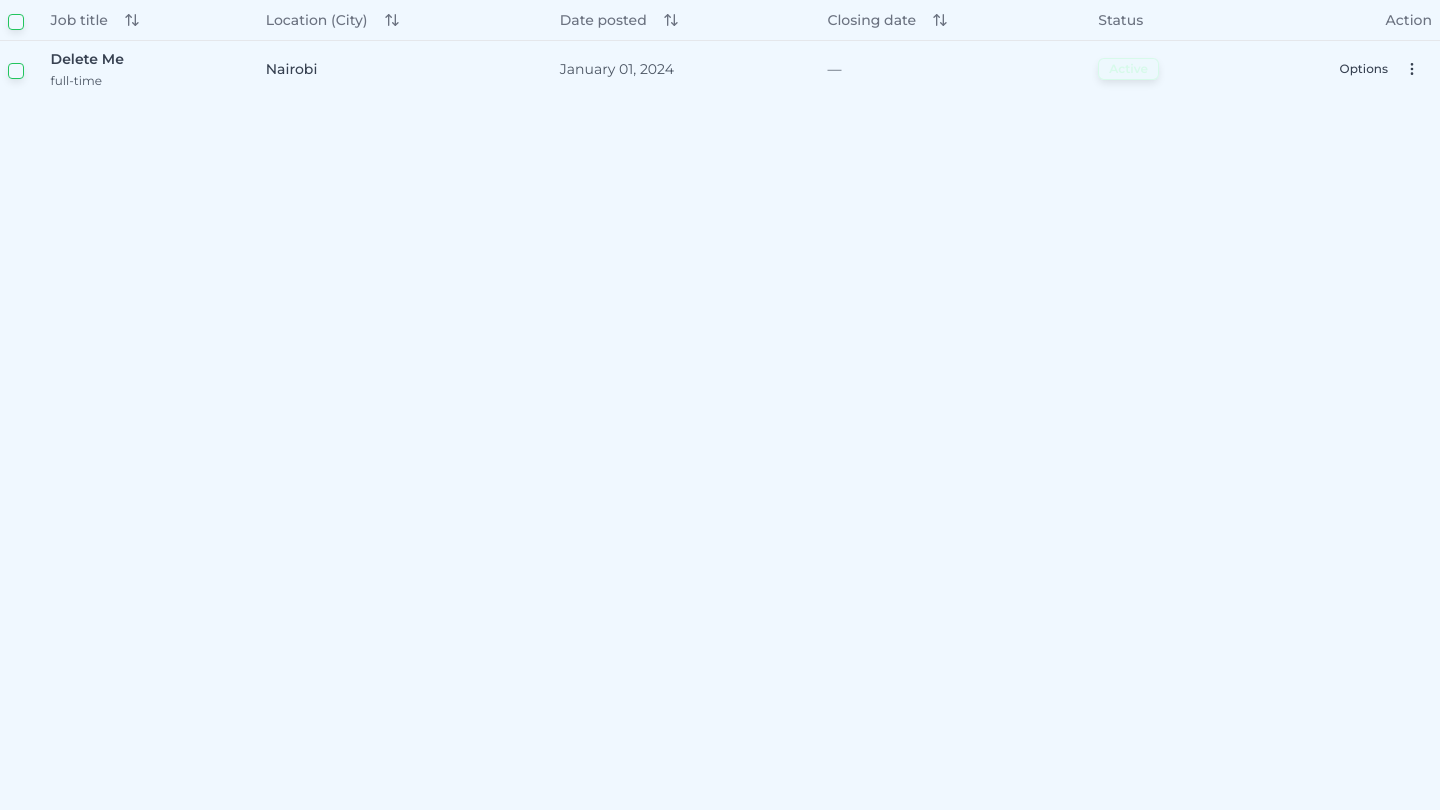
Test: JobListingTable delete action › removes the listing when delete is confirmed
Click the button "Options" at (1380, 68), box [1328, 52, 1432, 84]
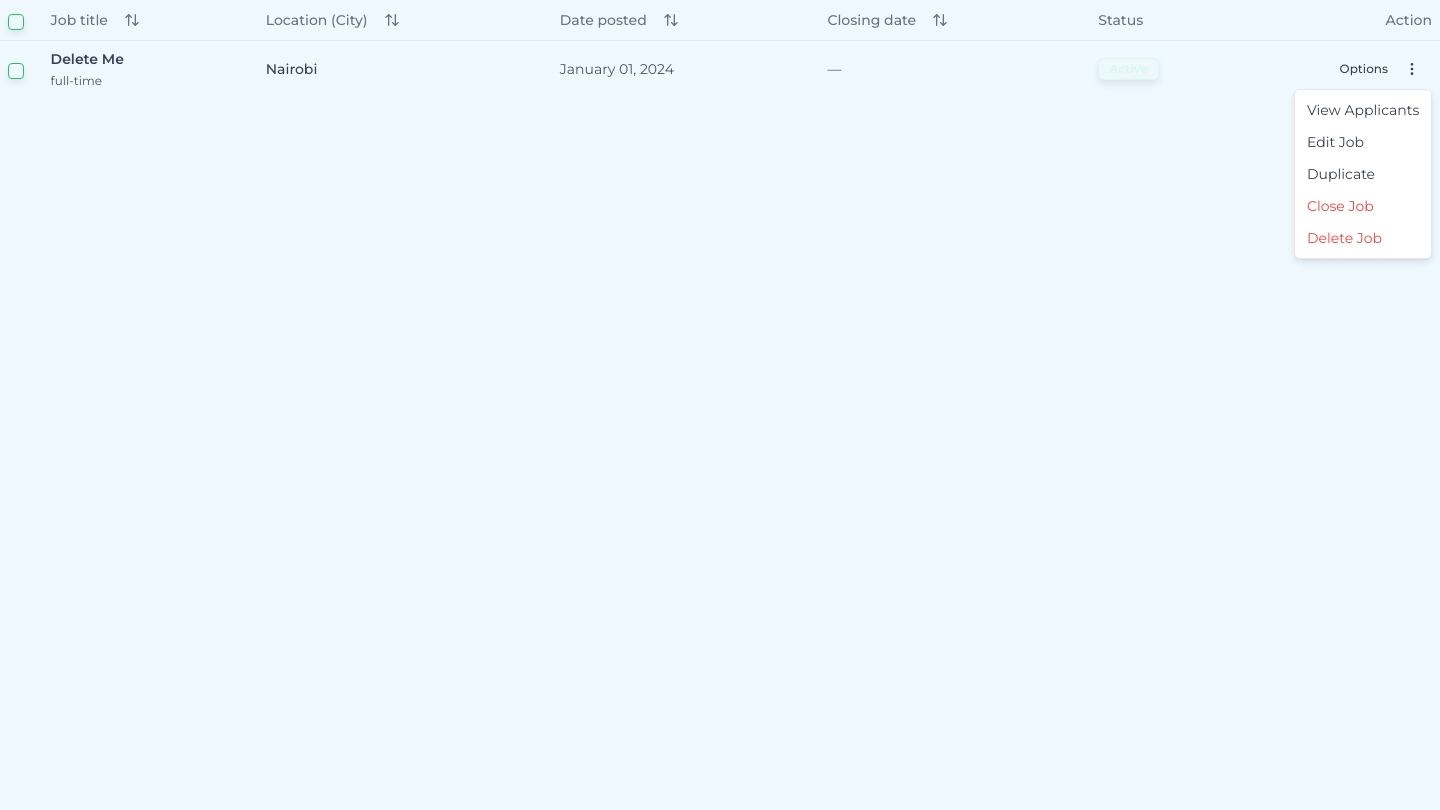
Click the menu item "Delete Job" at (1345, 238), box [1307, 229, 1382, 247]
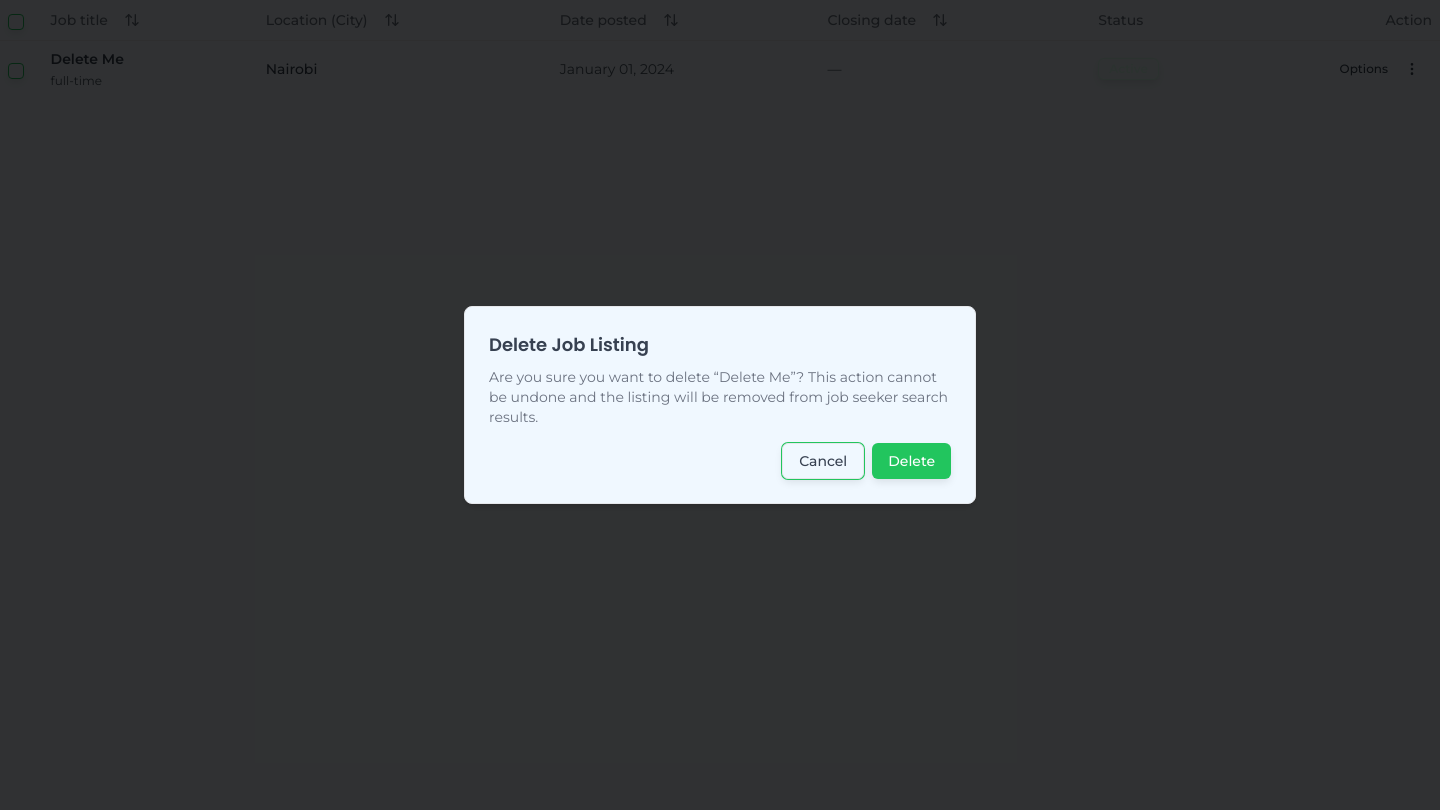
Click the button "Delete" at (912, 461), box [872, 443, 951, 479]
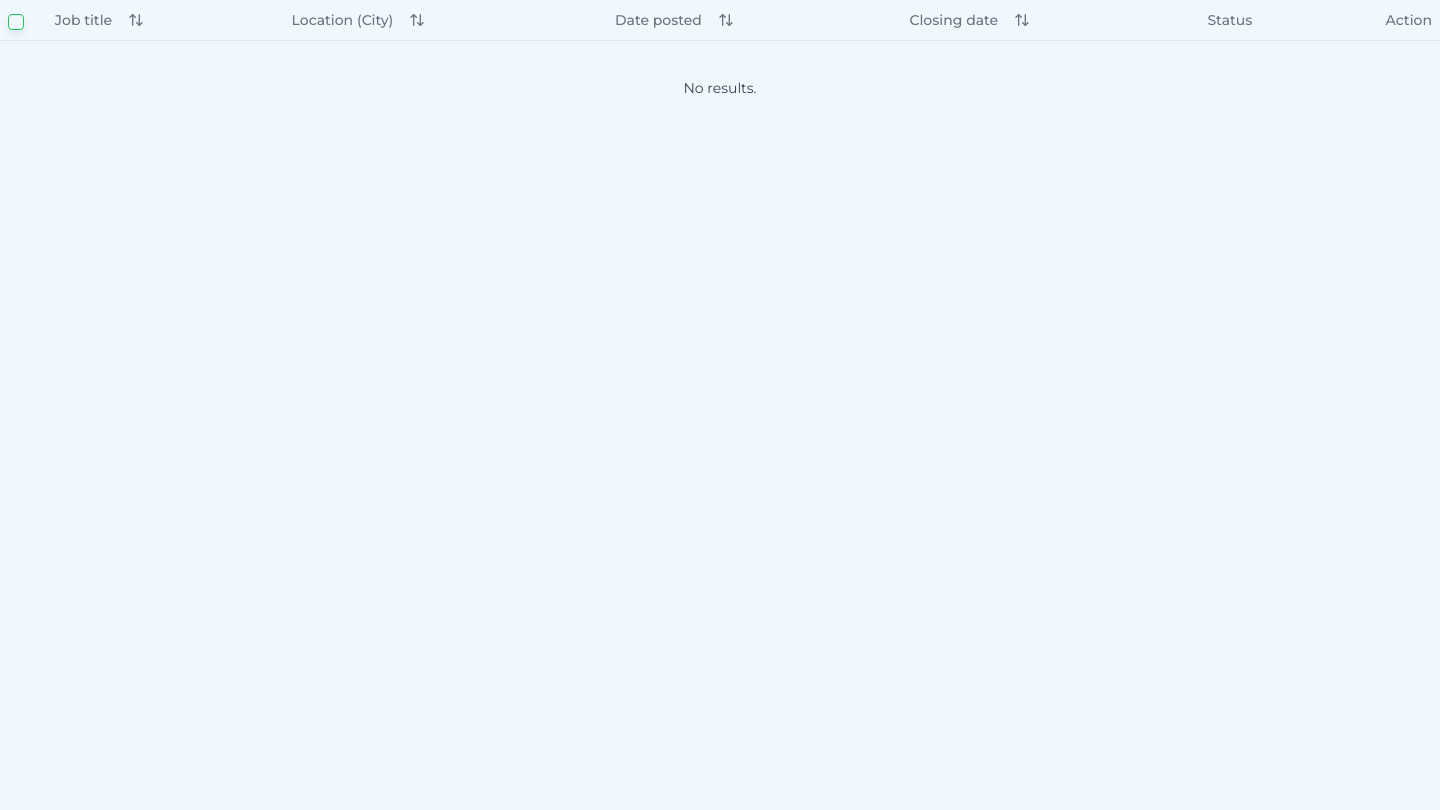
Now the text "Delete Me" is gone
